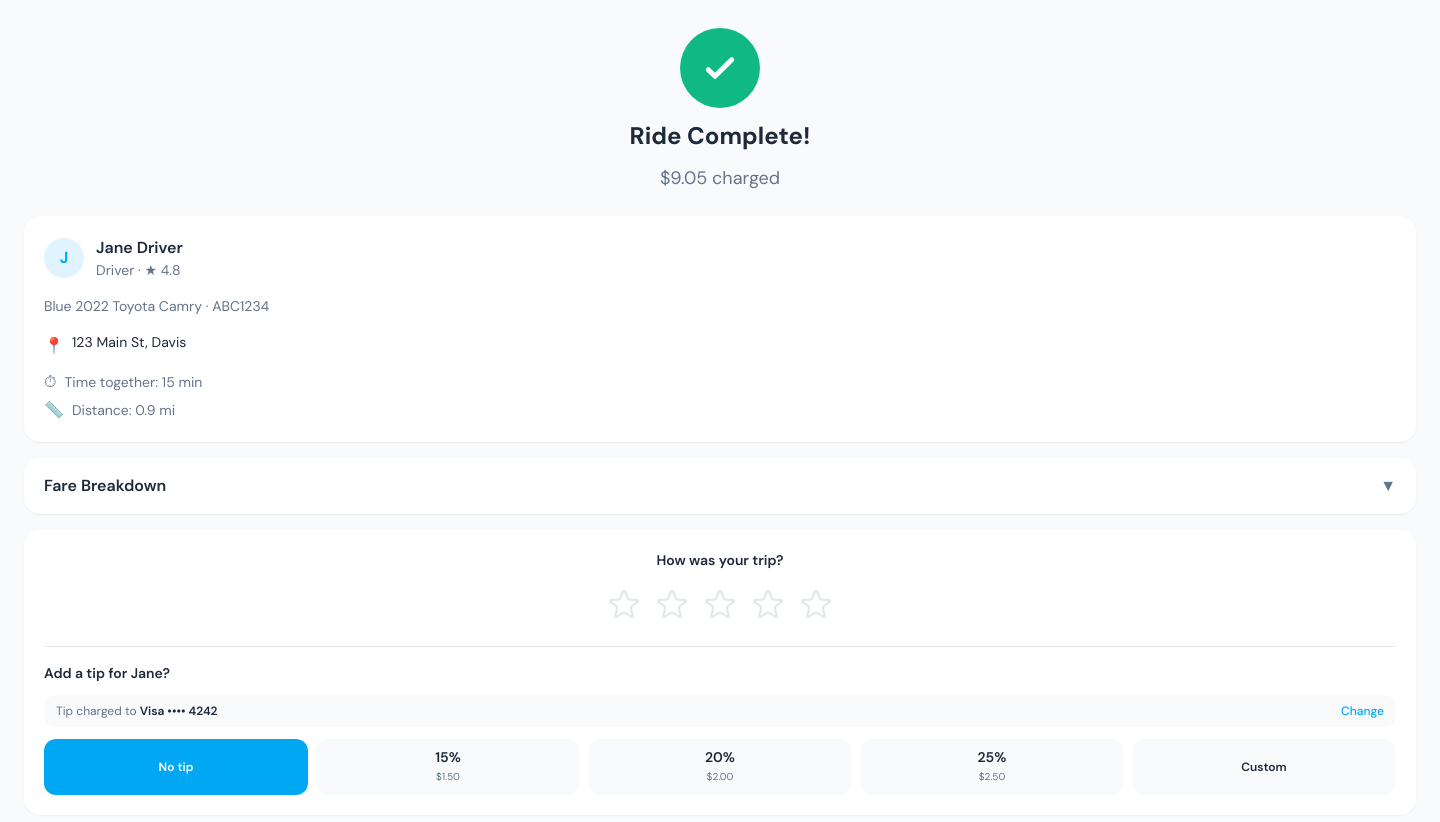
Scenario: RideSummaryPage › Rider view › submit with tip POSTs /rate then /tip and shows tip confirmation
The width and height of the screenshot is (1440, 822).
Expected: the element with test id "star-row" is shown, [602,582,838,626]
Click the button with test id "star-5" at (816, 604), box [794,582,838,626]
(page scrolled)
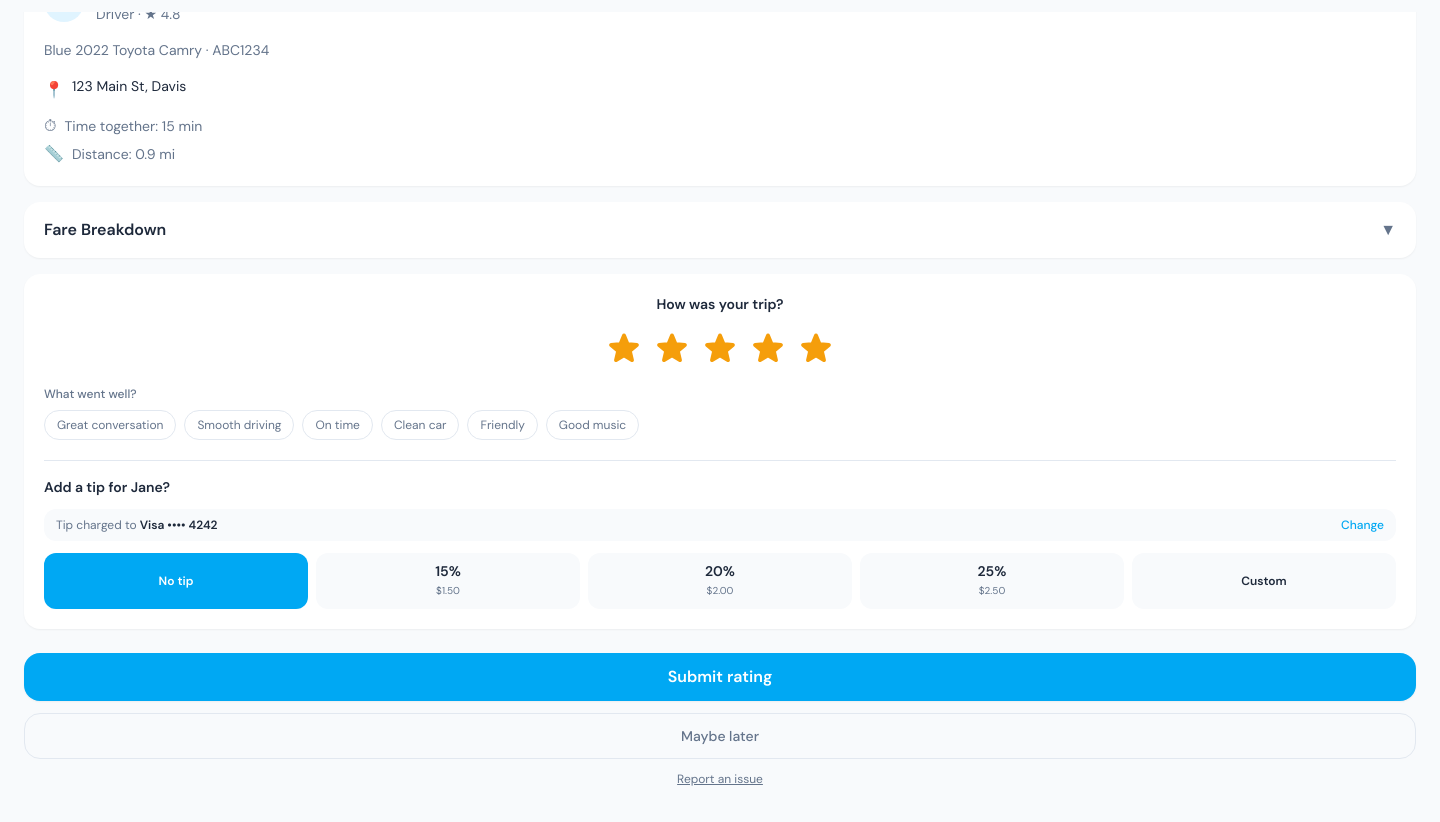
Expected: the element with test id "tip-picker" is shown, [44,460,1396,609]
Tip picker is always shown for rider — pick the 20% chip.
Click the button with test id "tip-20%" at (720, 581), box [588,553,852,609]
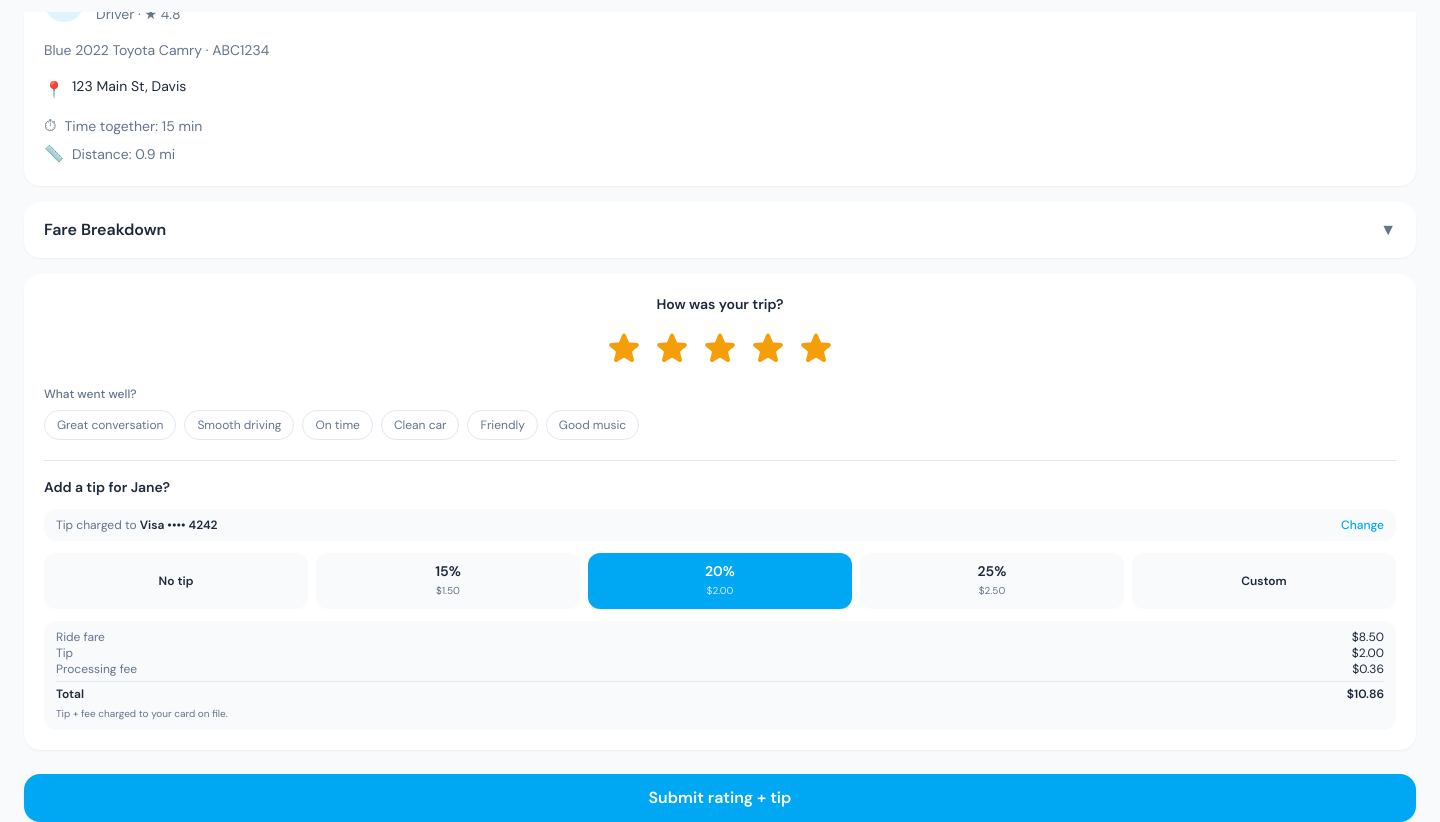
Click the button with test id "submit-rating" at (720, 798), box [24,774,1416,821]
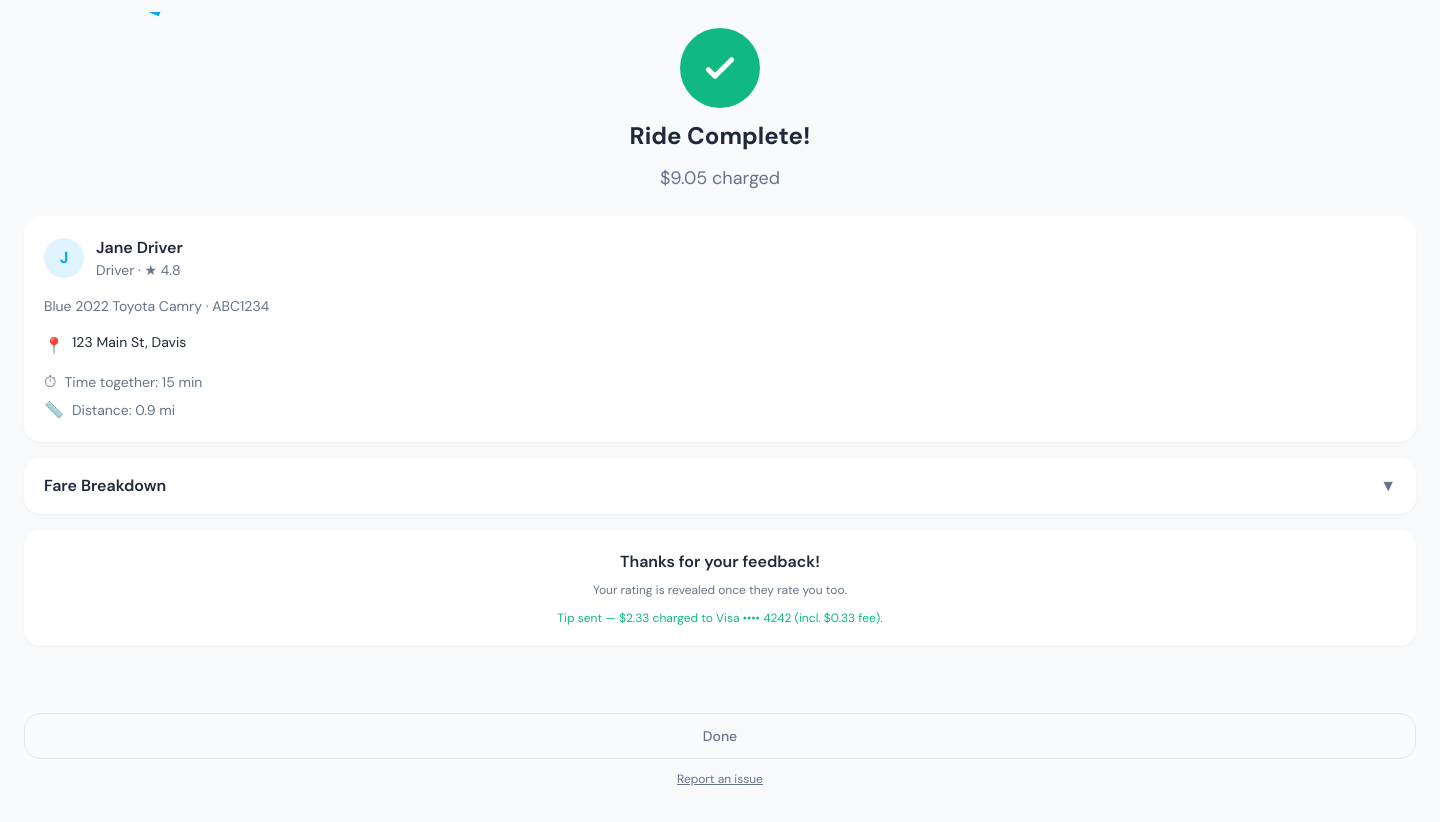
Now the element with test id "rate-submitted" is shown, box [557,551,883,626]
Now the text with test id "tip-method-confirm" is shown, box [557,610,883,626]
